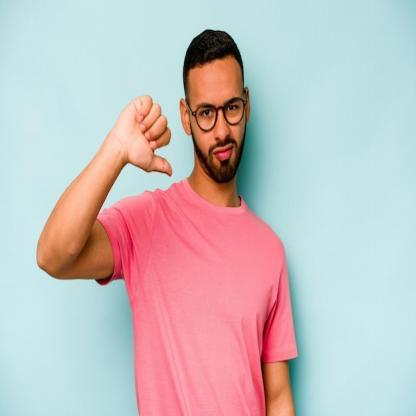thumb_down: (112, 91, 174, 181)
